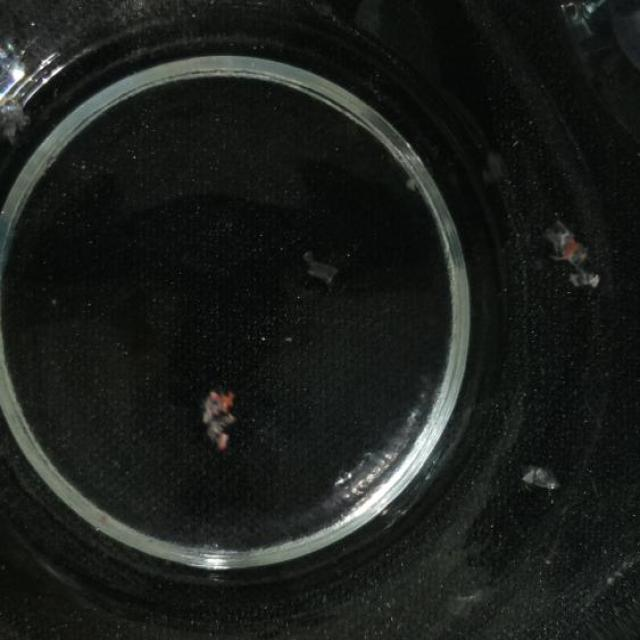fiber: (536, 220, 608, 306), (190, 390, 237, 449), (0, 87, 36, 146), (518, 462, 563, 500), (161, 0, 208, 11)
